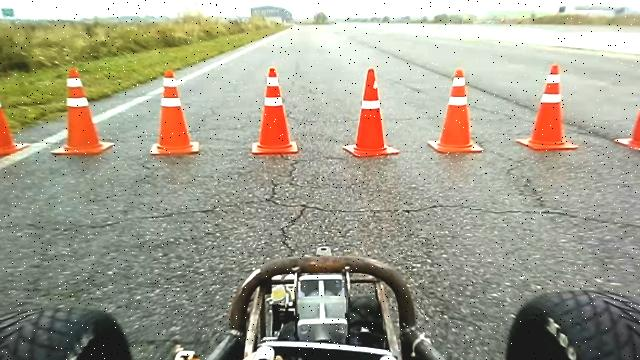red cone: (49, 67, 114, 155), (516, 63, 578, 151), (341, 67, 399, 157), (424, 68, 480, 154), (150, 69, 200, 155), (250, 66, 298, 155), (0, 64, 29, 156), (614, 67, 640, 151)
